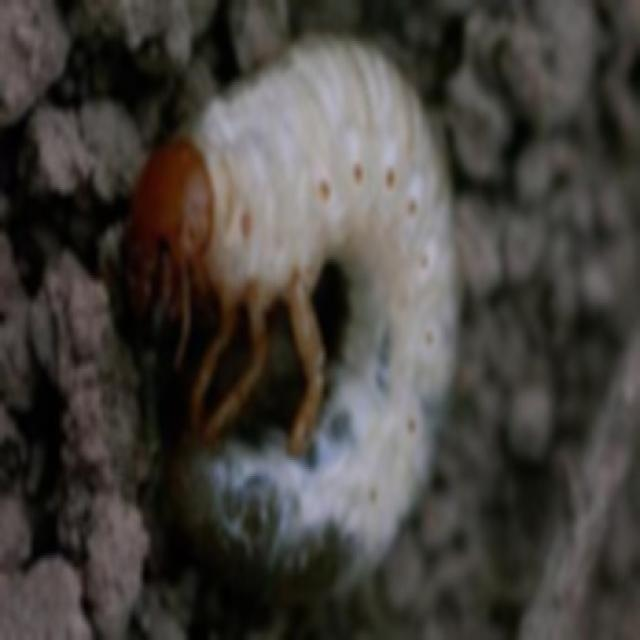grub: (140, 28, 450, 604)
